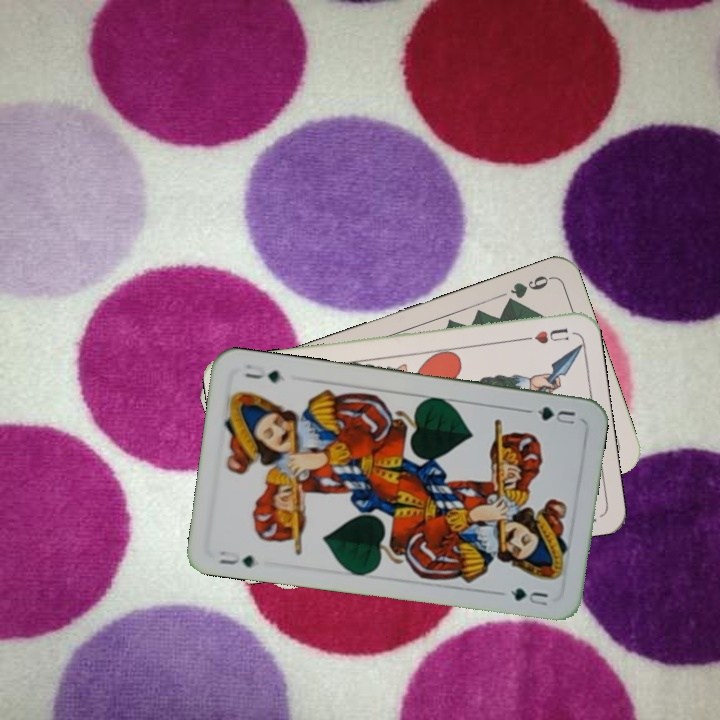G9: (501, 271, 554, 309)
GU: (532, 402, 578, 427), (214, 546, 257, 570)
HU: (515, 324, 571, 347)
